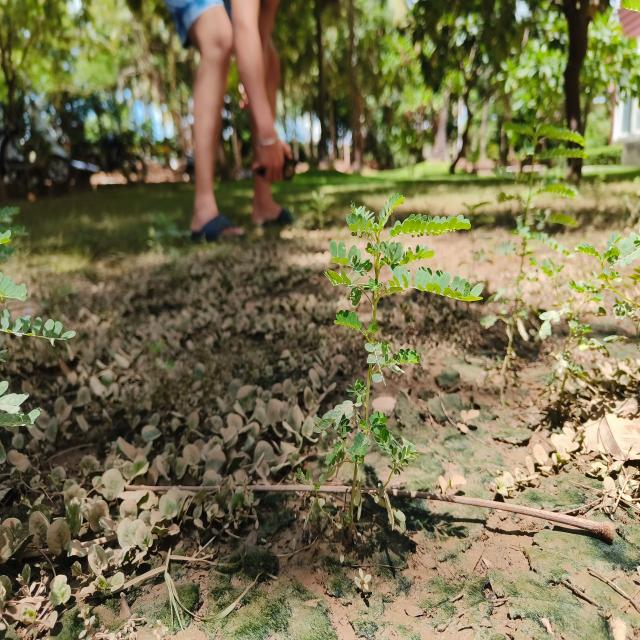weed: (310, 185, 497, 486), (0, 224, 73, 429)
